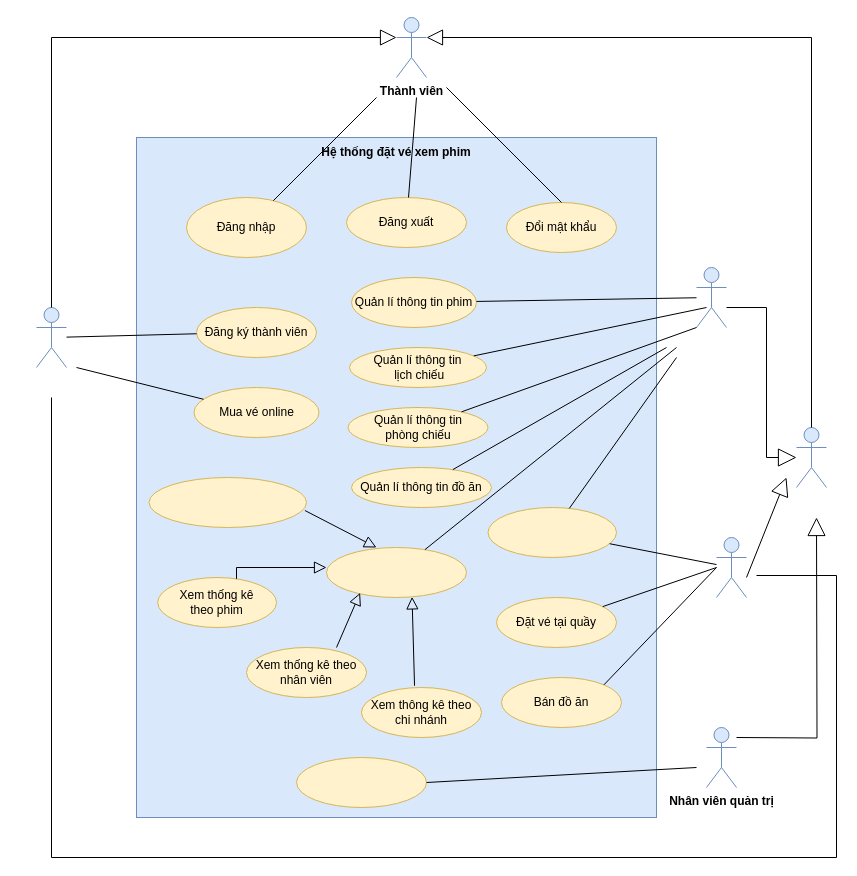
The diagram is 857 pixels wide and 876 high, and some of its shapes have lost their labels. Each missing label, with the centre of its shape:
"Khách hàng" goes at (x=51, y=337).
"Nhân viên" goes at (x=811, y=457).
"Nhân viên quản lí" goes at (x=711, y=297).
"Nhân viện tại quầy" goes at (x=731, y=567).
"Quản lí thông tin khách hàng" goes at (x=551, y=532).
"Quản lí thông tin nhân viên" goes at (x=361, y=782).
"Xem thống kê" goes at (x=396, y=572).
"Xem thống kê doanh tổng doanh thu theo thời gian" goes at (x=227, y=502).
